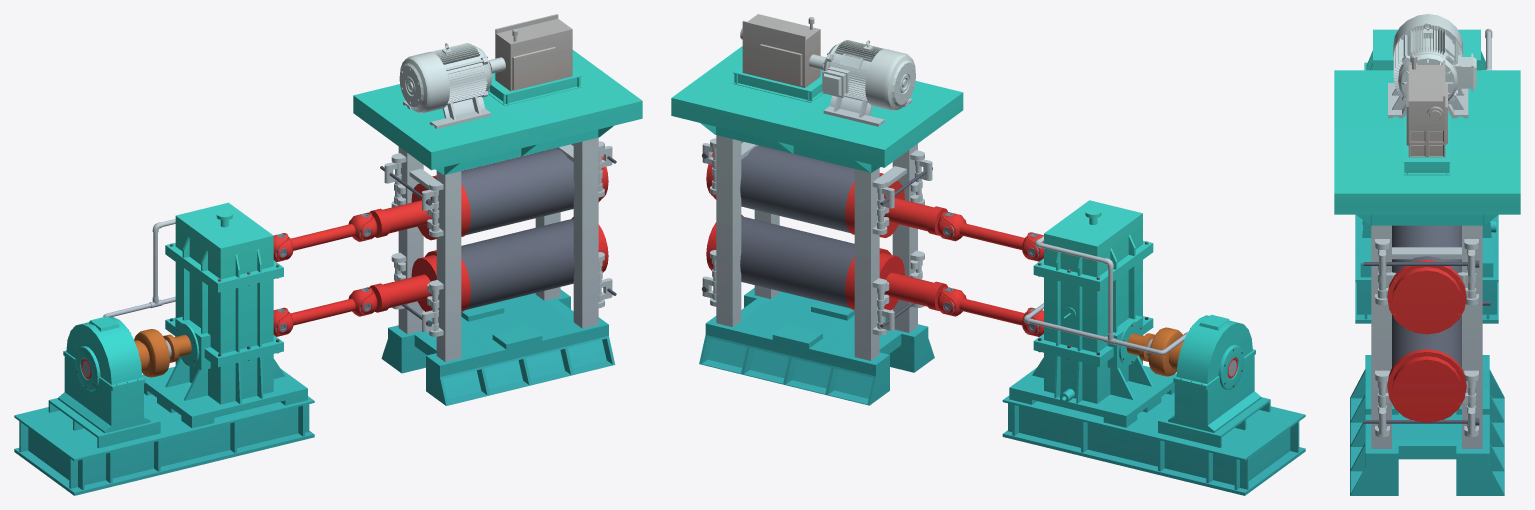
Rendered from Zhongzhaji.glb.
3 renders of one model, left to right at view 1: azimuth 30°, elevation 25°; view 2: azimuth 150°, elevation 25°; view 3: azimuth 270°, elevation 25°, orthographic. The views are drawn at different scales.
Visible parts, largest first — view 1: Zhongzhaji, guntong02, guntong01, zhou01, zhou02; view 2: Zhongzhaji, guntong02, guntong01, zhou01, zhou02; view 3: Zhongzhaji, guntong01, guntong02.
Boxes of the visible parts, x1,y1,x2,y2 form: Zhongzhaji: (14, 14, 642, 495); guntong02: (461, 218, 574, 309); guntong01: (461, 144, 574, 235); zhou01: (273, 212, 377, 262); zhou02: (273, 287, 377, 336); Zhongzhaji: (671, 14, 1305, 495); guntong02: (740, 216, 854, 308); guntong01: (740, 141, 854, 233); zhou01: (937, 211, 1043, 261); zhou02: (937, 287, 1043, 336); Zhongzhaji: (1334, 14, 1520, 495); guntong01: (1392, 225, 1461, 273); guntong02: (1390, 315, 1463, 371).
Bounding box in the file's own units: 23 × 13.14 × 5.55.
1 material, 1 textured.
